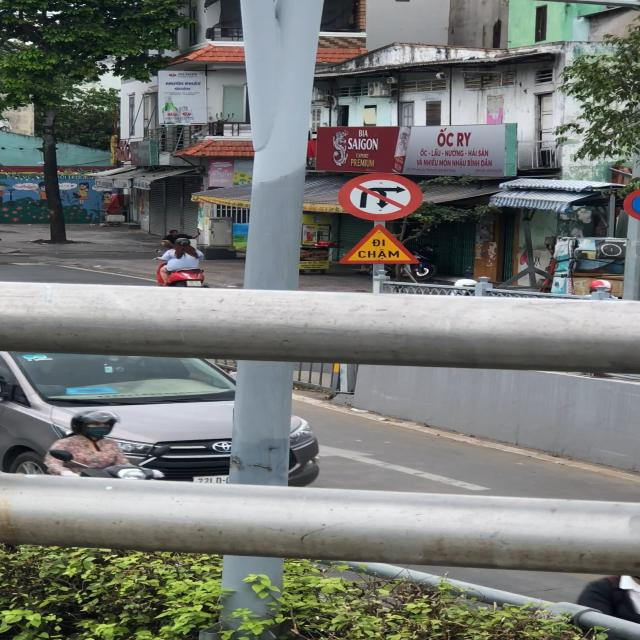Bien bao cam re phai va quay dau: (336, 171, 424, 223)
